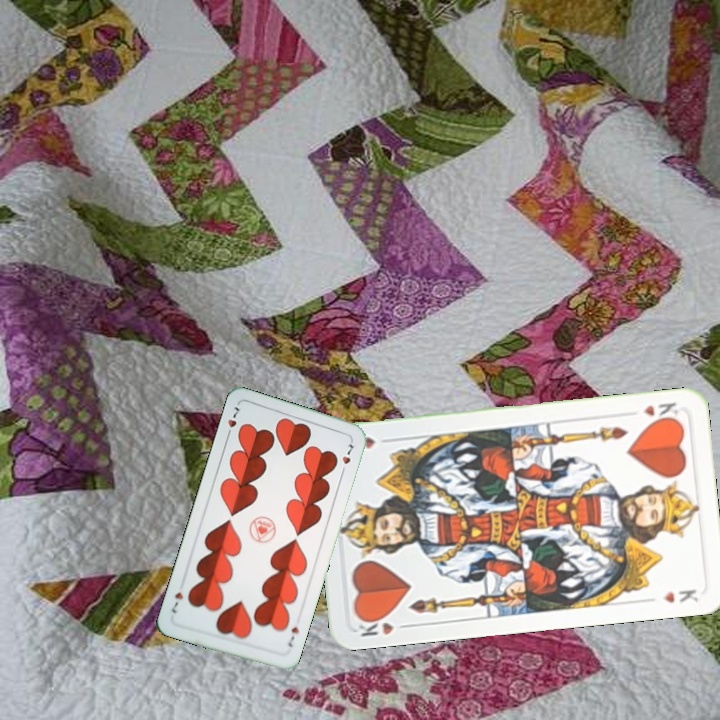H7: (222, 402, 244, 440), (284, 622, 301, 650)
HK: (353, 611, 413, 640), (639, 398, 681, 425)
